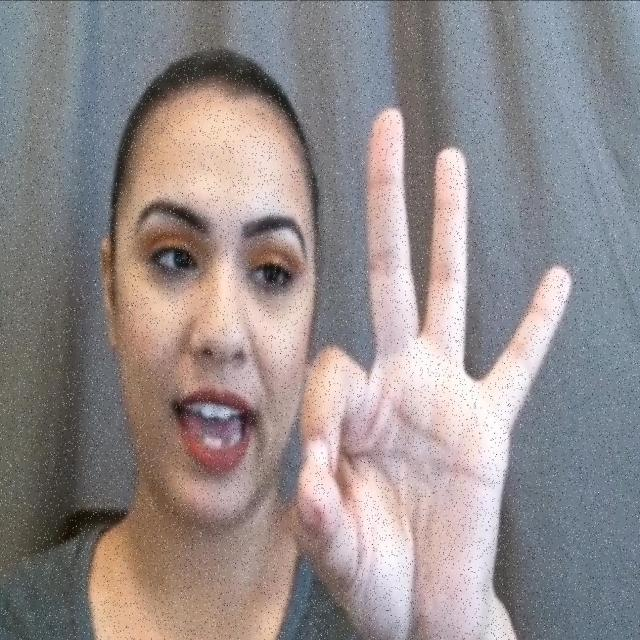F: (286, 101, 578, 640)
